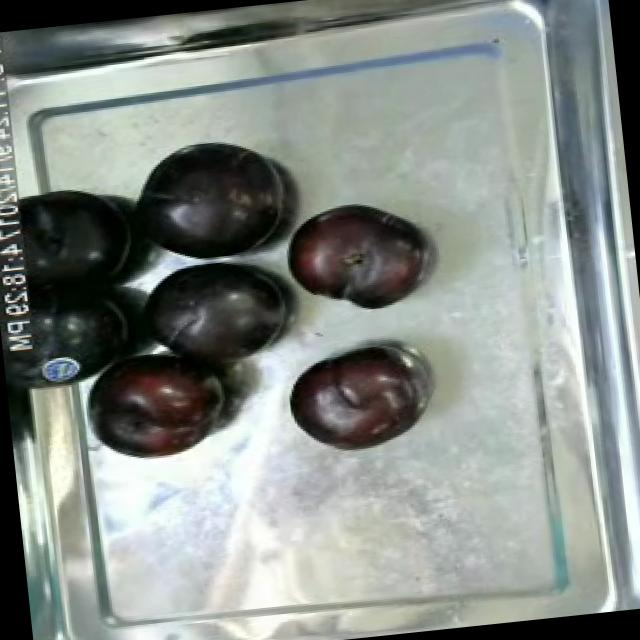Fruit: (113, 129, 293, 274), (122, 245, 300, 390), (76, 332, 240, 471), (270, 189, 434, 324), (276, 336, 426, 460)
